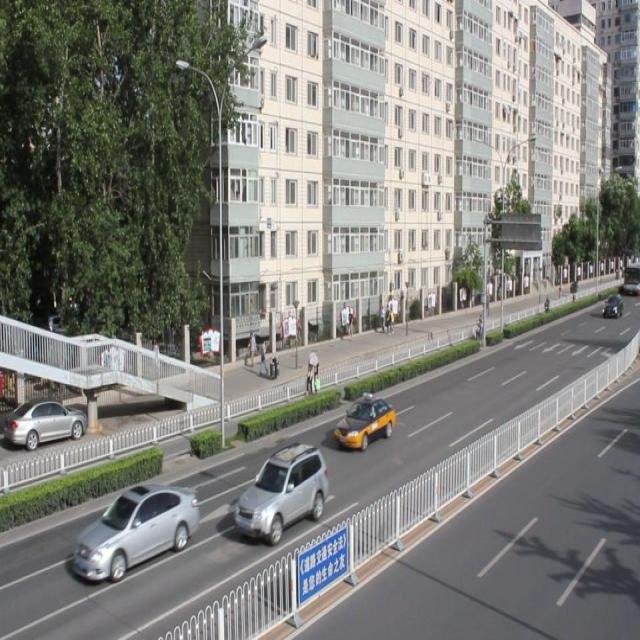car: (73, 479, 200, 582), (233, 441, 329, 540), (334, 393, 396, 448)
